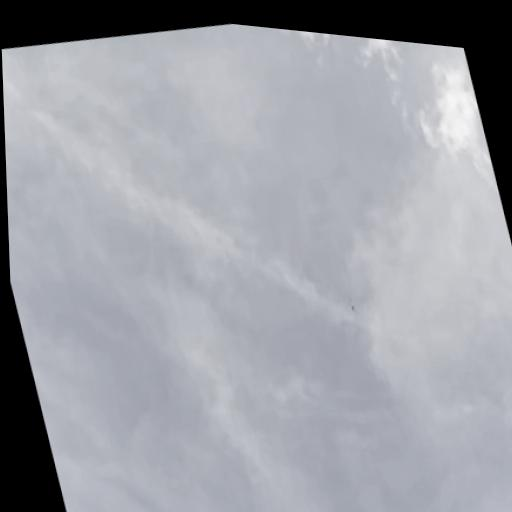drones: (342, 291, 366, 322)
